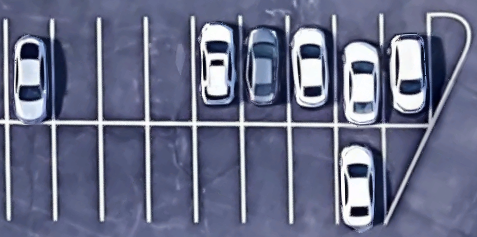Occupied: (381, 15, 430, 126), (287, 16, 336, 126), (333, 15, 382, 125), (240, 17, 289, 125), (5, 18, 53, 123), (336, 126, 384, 224)
Vacant: (192, 17, 241, 125), (98, 19, 147, 124), (146, 18, 195, 123), (194, 124, 245, 222), (241, 123, 290, 223), (52, 18, 99, 122), (148, 123, 197, 222), (100, 123, 149, 221), (291, 123, 338, 224), (54, 122, 101, 221), (7, 124, 55, 220)
